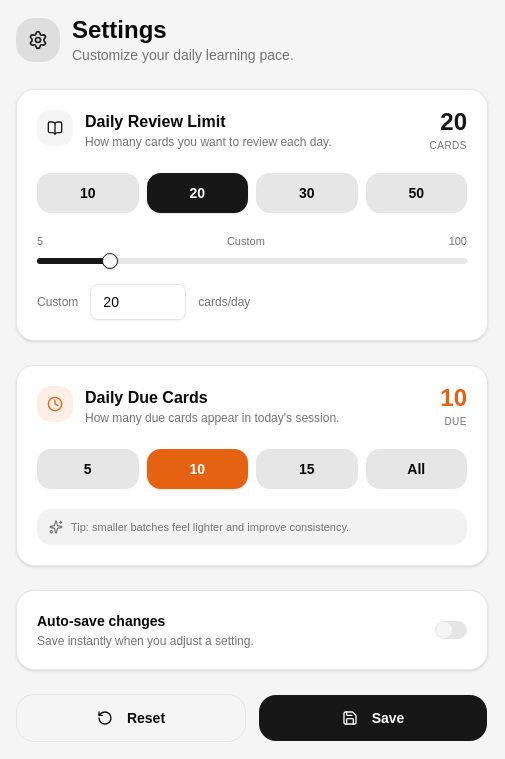
Test case: SettingsPage › review limit › clicking a preset updates the custom input value
This screenshot has width=505, height=759.
Expected: the heading "Settings" is shown, left=72, top=16, right=167, bottom=43
# "30" appears only in review presets (due presets are 5/10/15/All)
Click the button "30": (307, 193) left=256, top=173, right=358, bottom=213
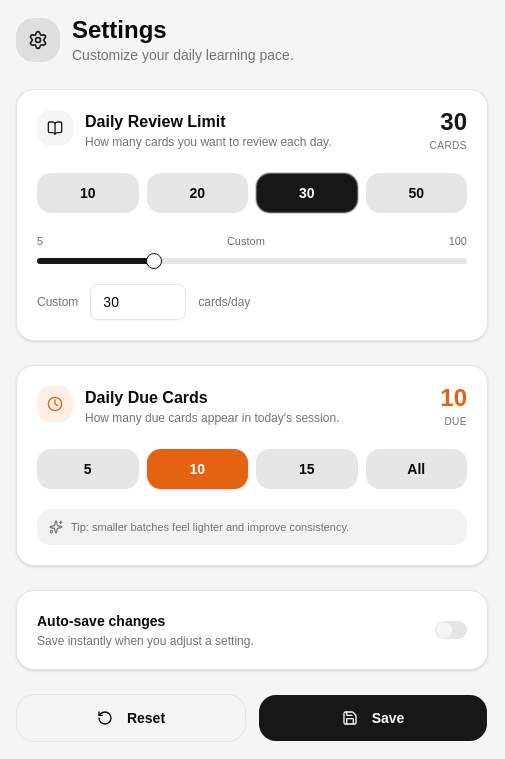
Expected: the number field holds "30", left=90, top=284, right=186, bottom=320
